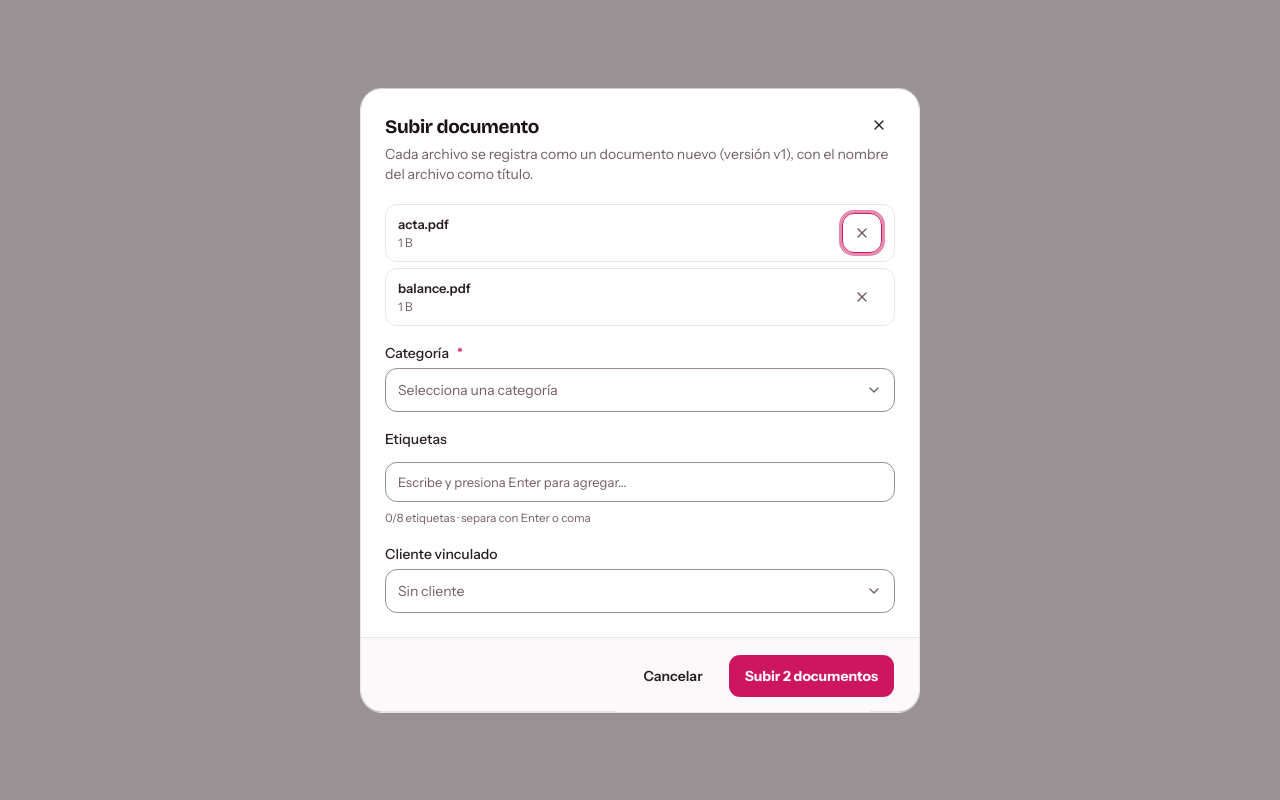
UploadDocumentDialog — modal review (1.5) › the batch duplicate banner speaks tú like the rest of the app
Click the dropdown labelled "Selecciona una categoría ▼".
click(478, 390)  # box [385,368,895,412]
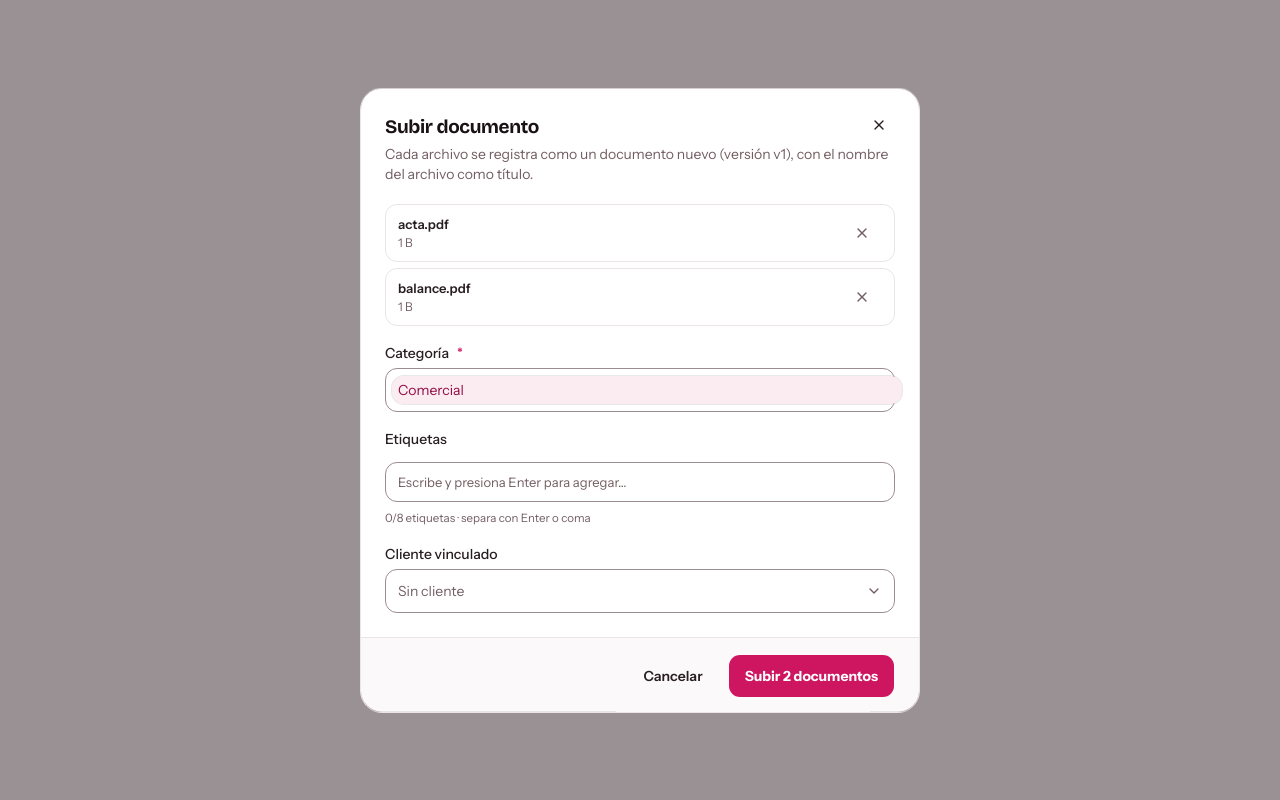
Click the option "Comercial".
click(431, 390)  # box [392,376,902,404]
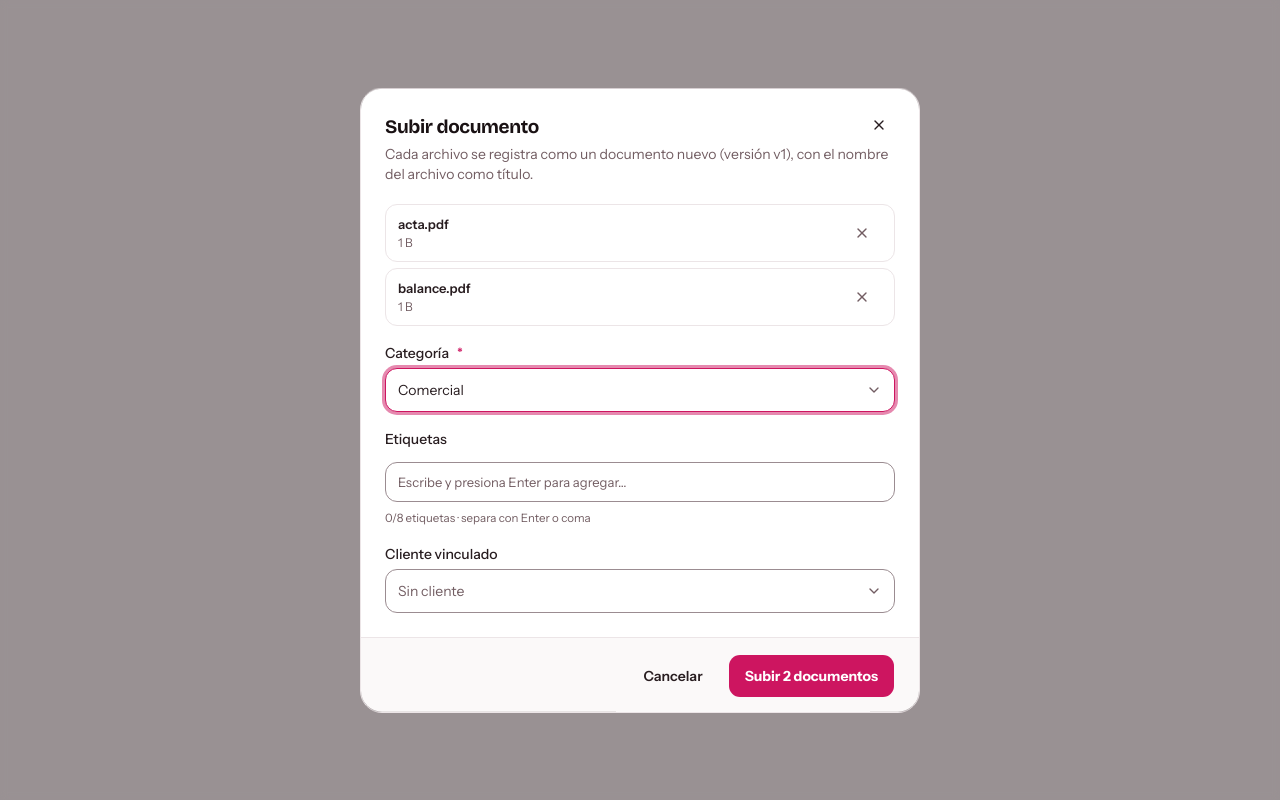
Click the button "Subir 2 documentos".
click(811, 675)  # box [728,653,895,697]
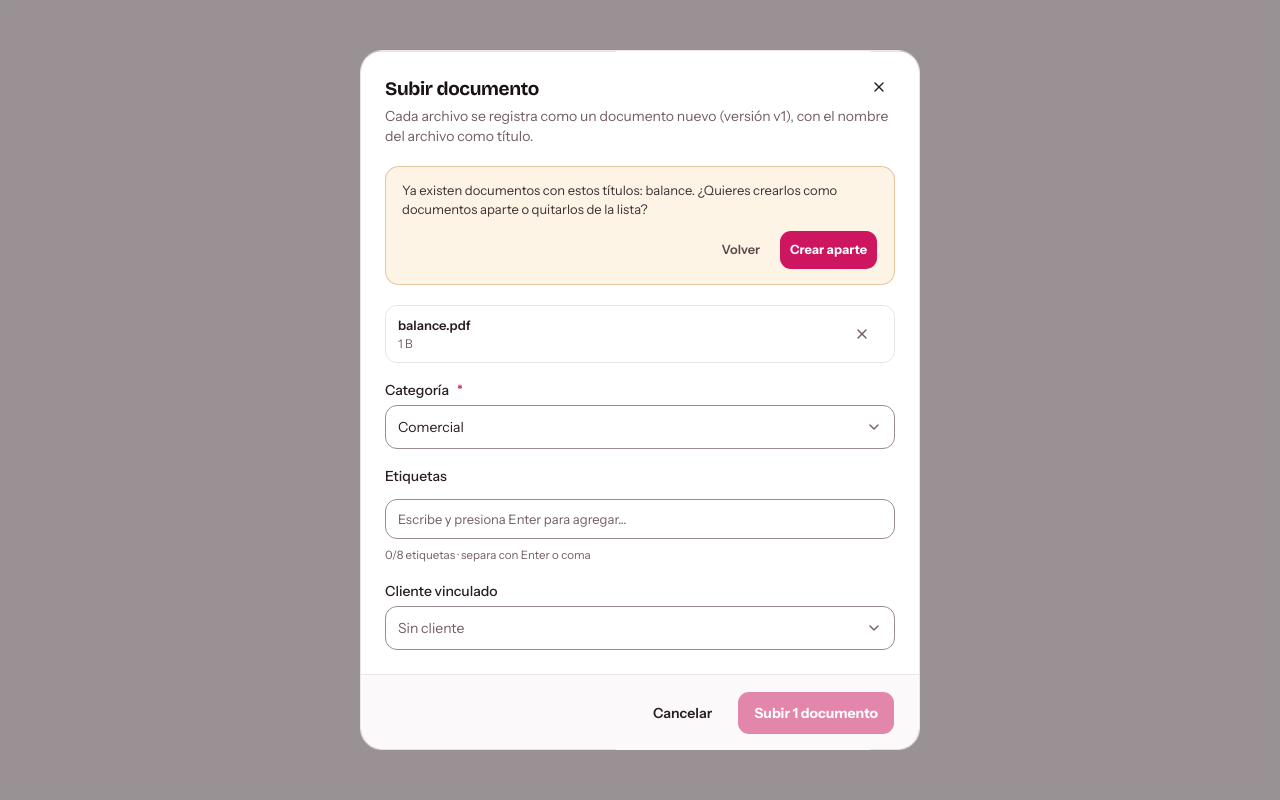
Expected: the text "¿Quieres crearlos como documentos aparte" is shown, [402,182,837,217]
